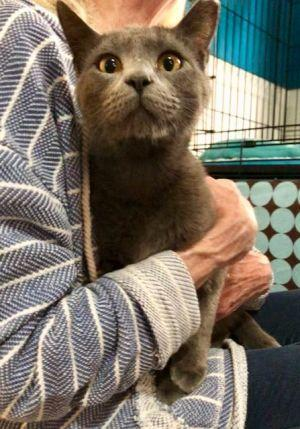rblue: (49, 1, 236, 177)
